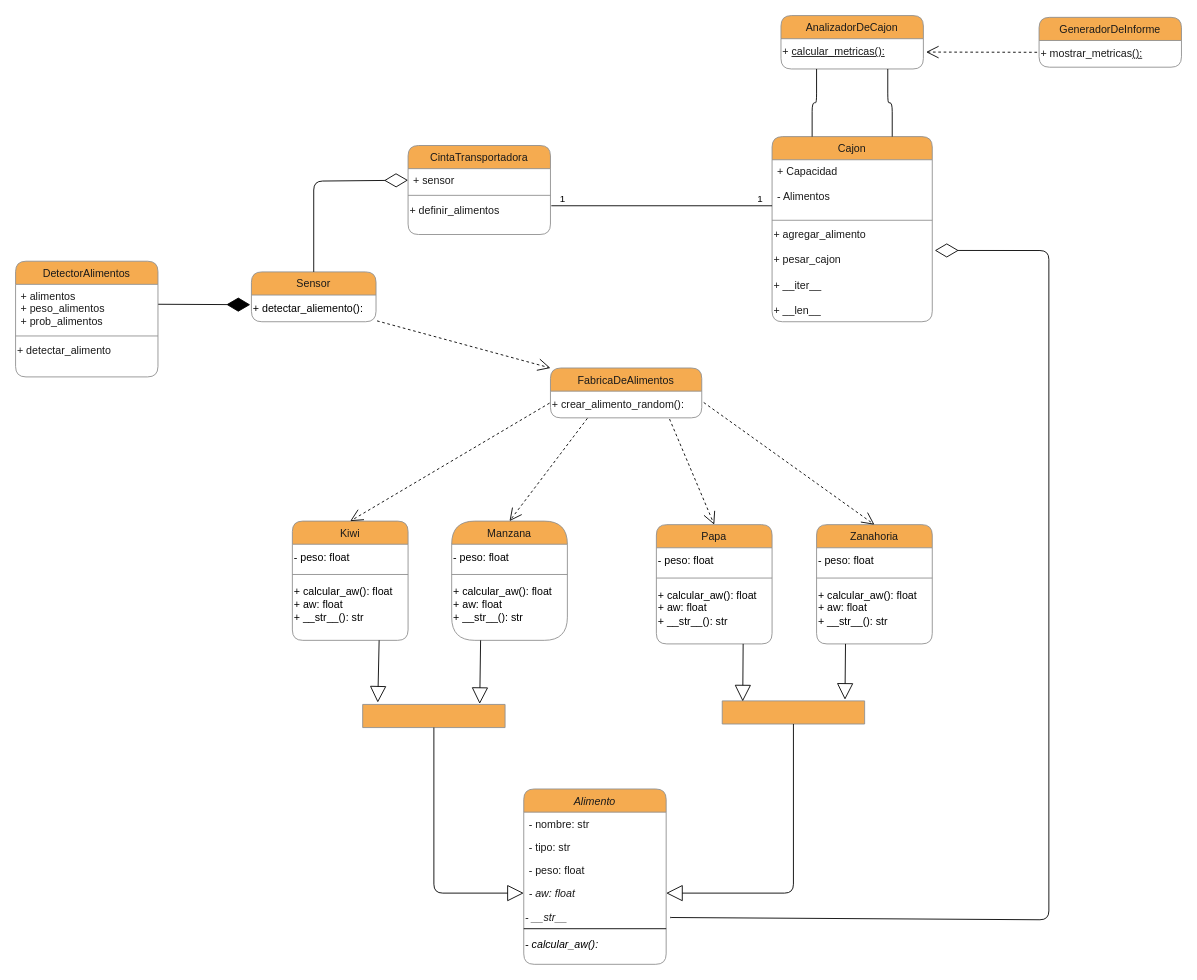
The diagram is 1197 pixels wide and 980 high, and some of its shapes have lost their labels. Here are the shapes that lost their labels. From the top down, the centre of each, then its label:
the point at 433,716: Fruta
the point at 793,712: Verdura
